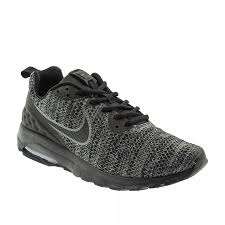nike: (41, 113, 93, 144)
